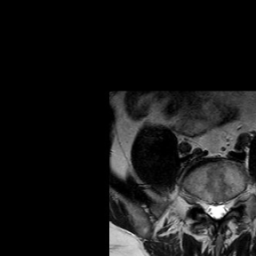CCS_normal: (213, 194, 220, 225)
LFS_normal: (227, 191, 236, 215)
LLS_normal: (220, 193, 227, 219)
RFS_normal: (197, 190, 205, 215)
RLS_normal: (205, 192, 213, 222)
